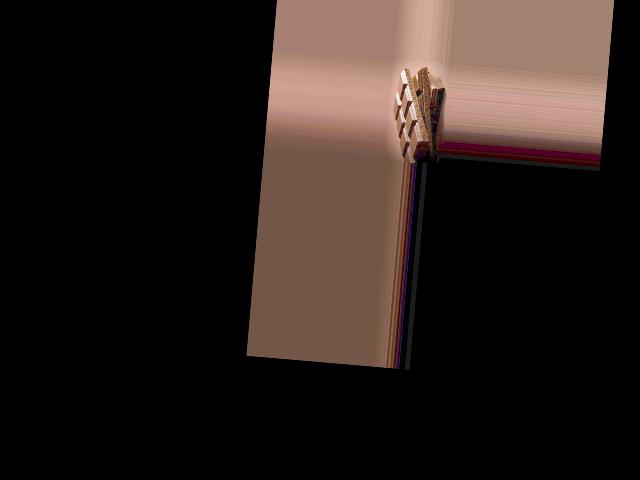chocolate: (389, 65, 440, 162)
